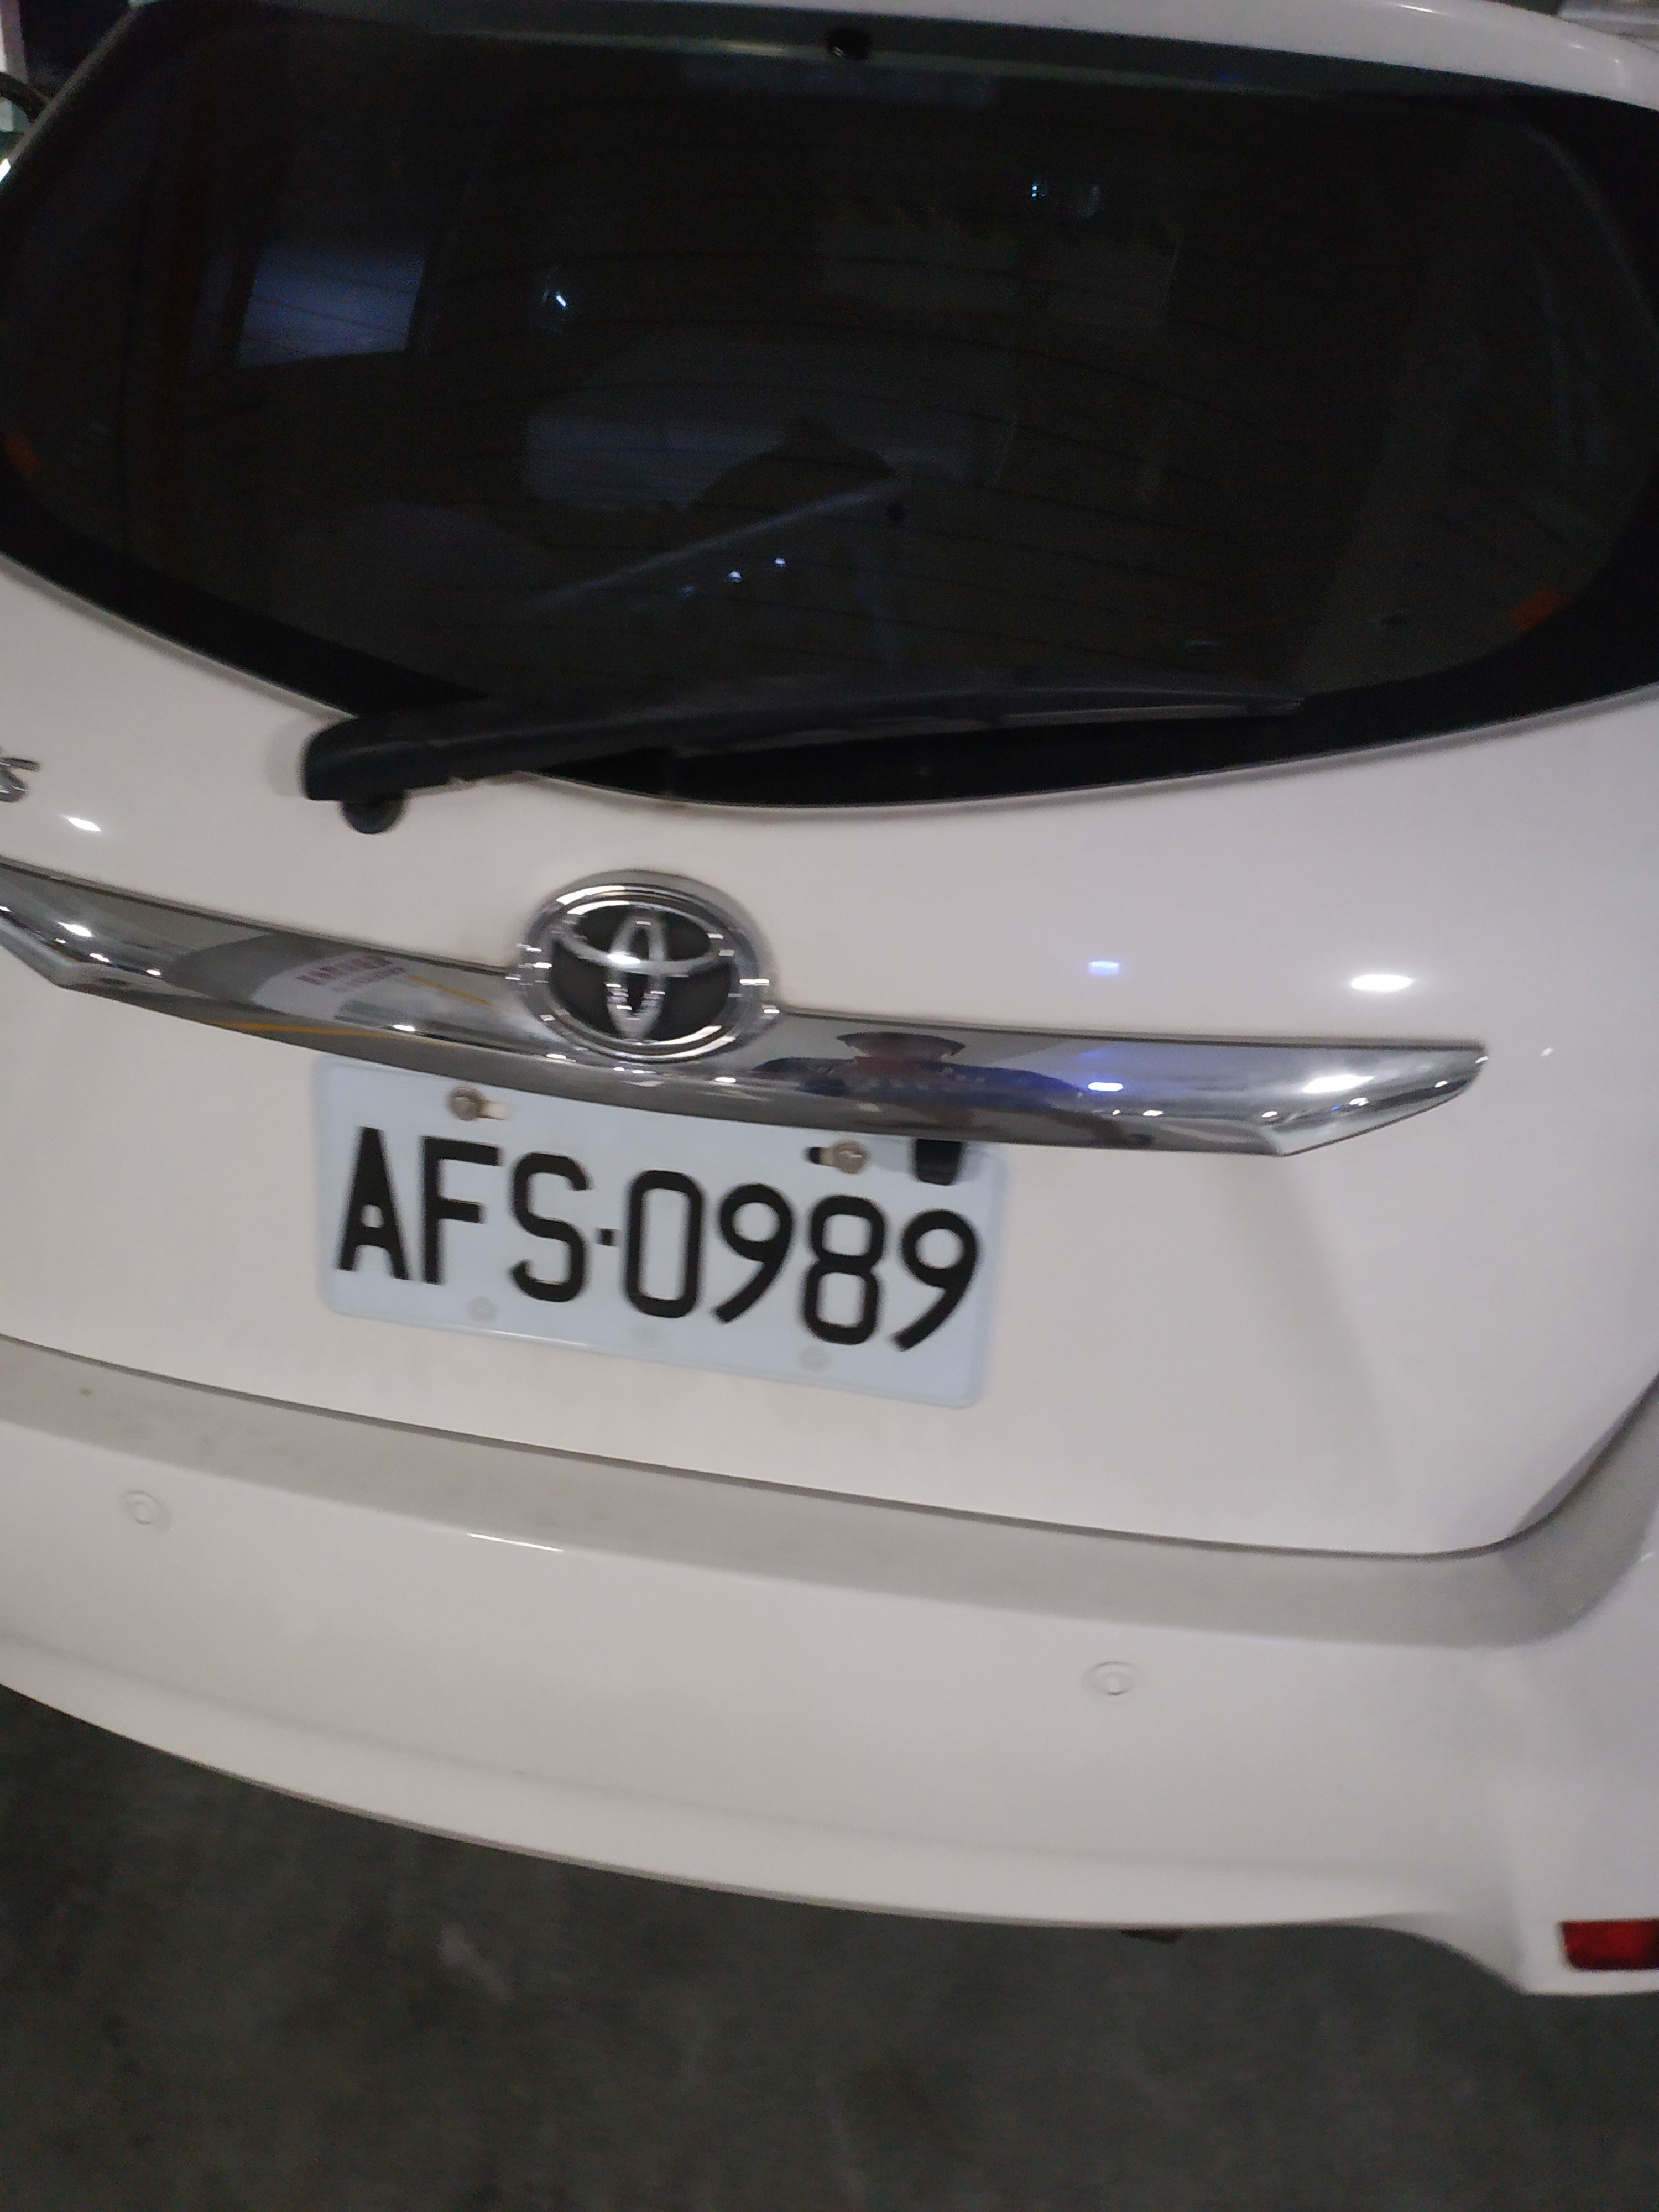car: (0, 64, 1659, 1996)
car_card: (301, 1054, 981, 1407)
